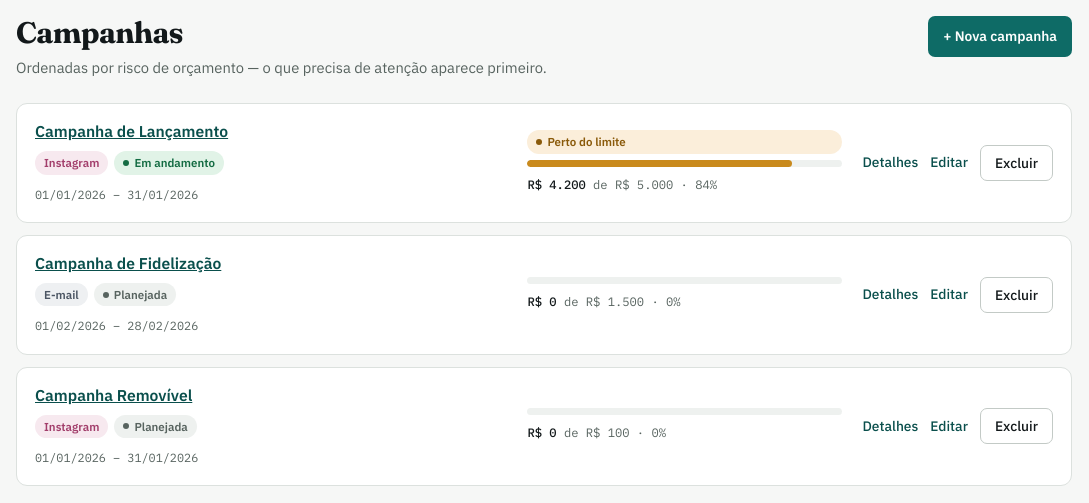
Scenario: CampaignsListPage › exclui uma campanha após confirmar a exclusão
Expected: the link "Campanha Removível" is shown, [35, 385, 192, 405]
Click the button with aria-label "excluir campanha removível" at (1016, 426), box [980, 408, 1053, 444]
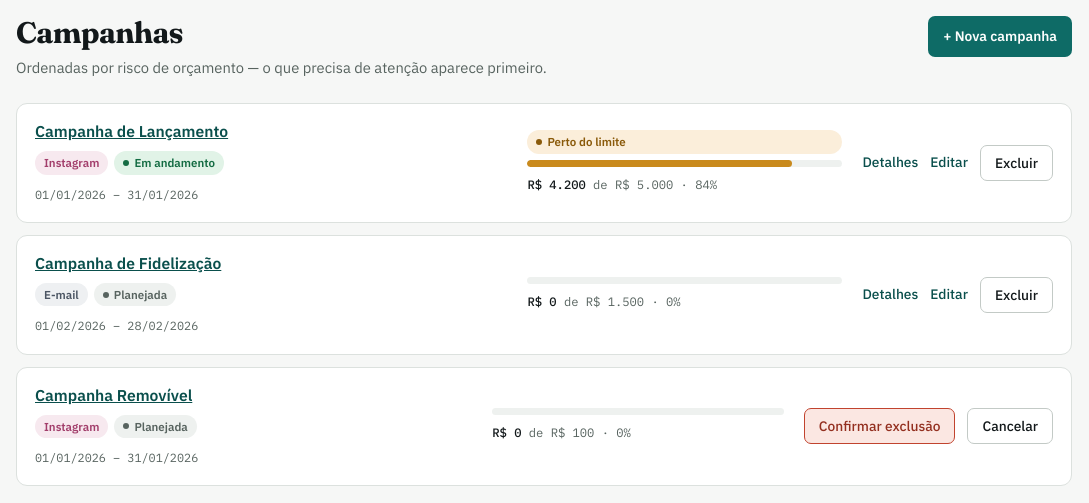
Click the button "Confirmar exclusão" at (880, 426), box [804, 408, 956, 444]
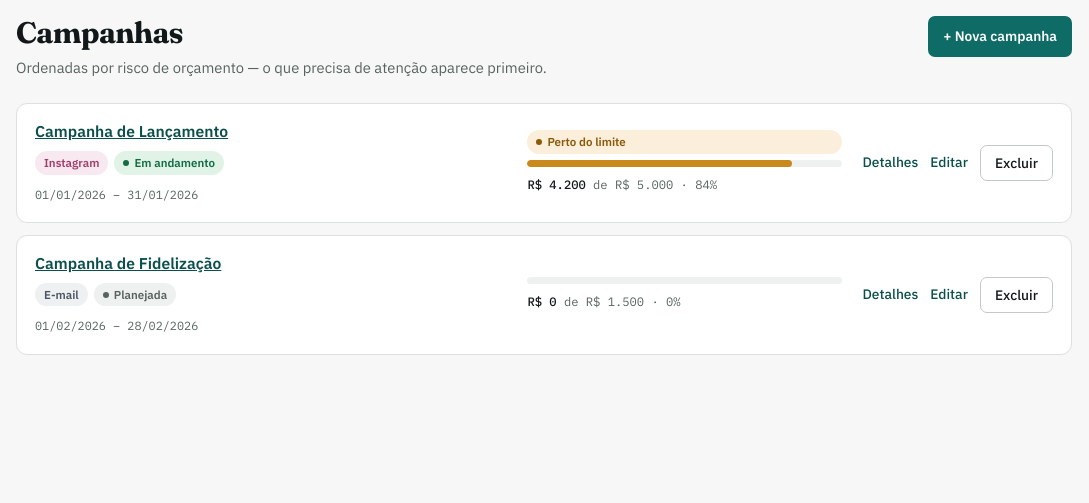
Result: the link "Campanha Removível" is gone
